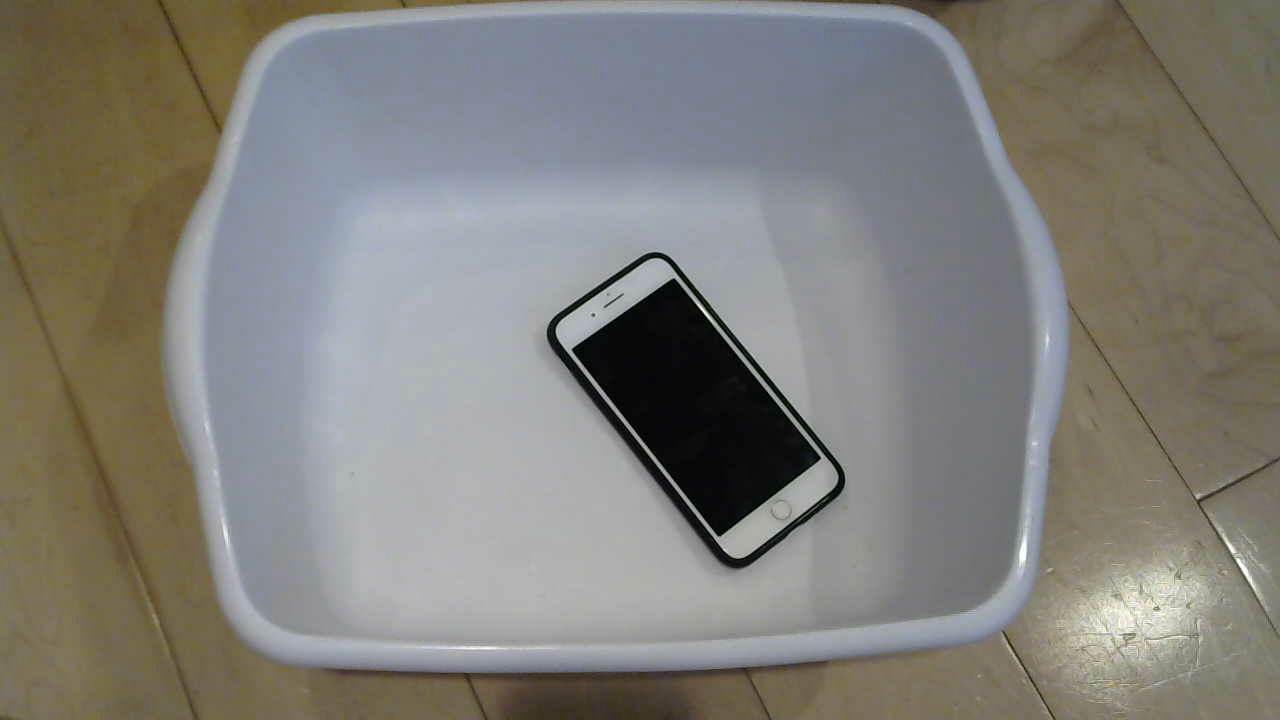phone: (542, 254, 859, 586)
